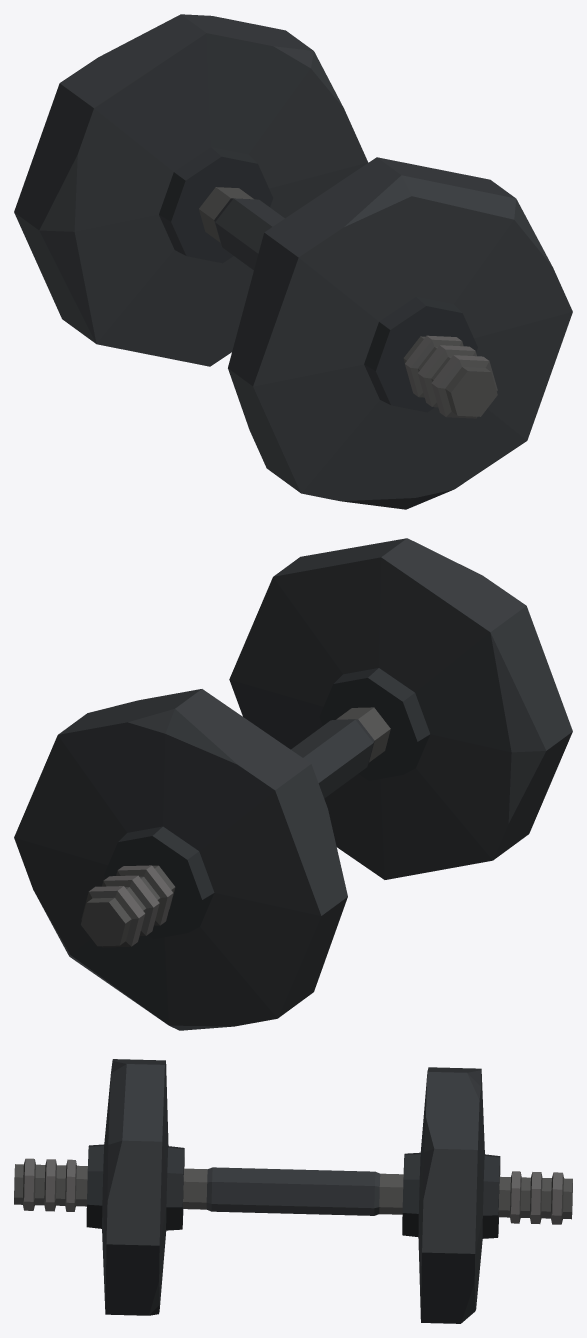
The model's file is SM_Prop_Dumbbell_01.fbx.
3 views of the same model, one above another, from view 1: azimuth 30°, elevation 25°; view 2: azimuth 150°, elevation 25°; view 3: azimuth 270°, elevation 25° (orthographic). The views are drawn at different scales.
Parts seen in each view (by area): view 1: SM_Prop_Dumbbell_01; view 2: SM_Prop_Dumbbell_01; view 3: SM_Prop_Dumbbell_01.
Boxes of the visible parts, x1=… form: SM_Prop_Dumbbell_01: x1=14, y1=14, x2=572, y2=509; SM_Prop_Dumbbell_01: x1=14, y1=538, x2=572, y2=1030; SM_Prop_Dumbbell_01: x1=14, y1=1059, x2=572, y2=1323.
Size of the model in its own units: 30.13 by 30.07 by 60.29.
